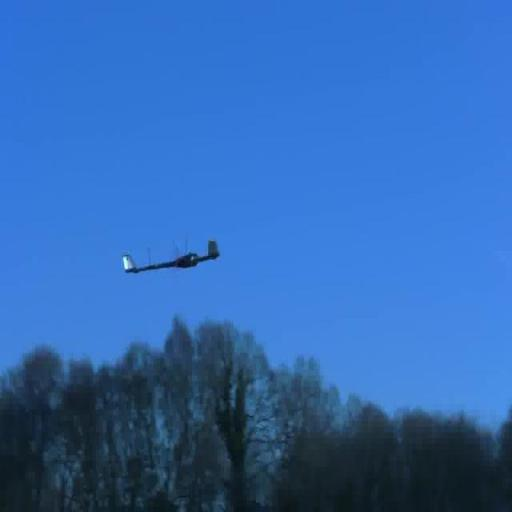uav: (122, 229, 225, 289)
